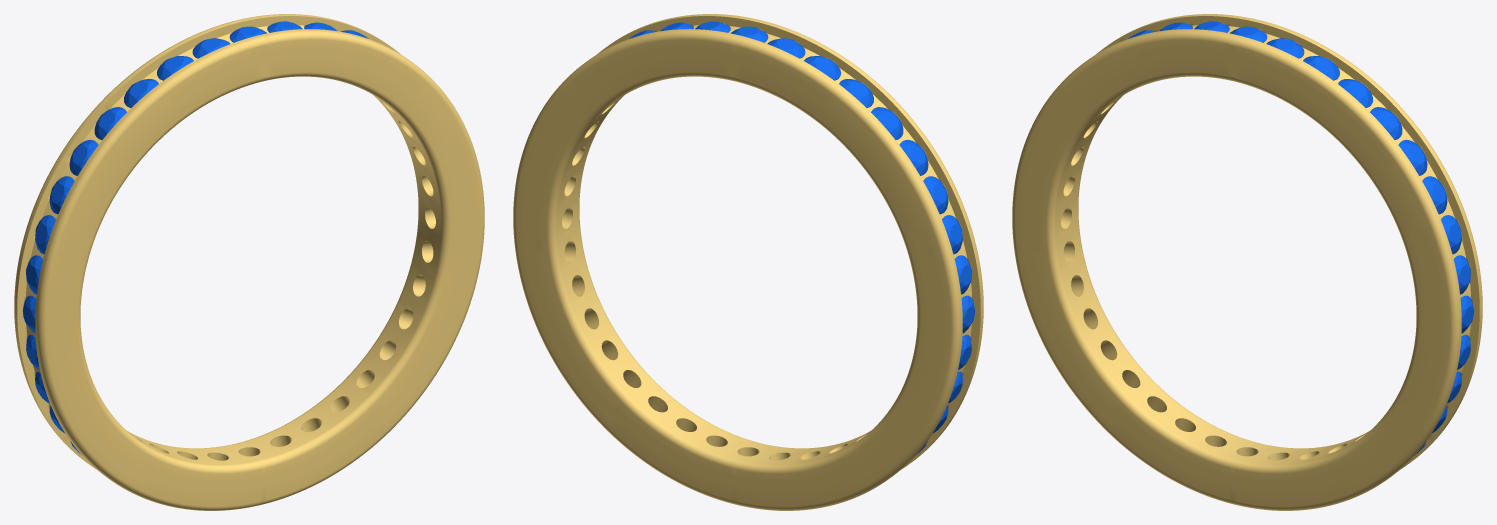
Rendered from AmyYGeternity_blender.glb.
3 renders of one model, left to right at view 1: azimuth 30°, elevation 25°; view 2: azimuth 150°, elevation 25°; view 3: azimuth 330°, elevation 25°, orthographic.
Parts seen in each view (by area): view 1: Amy YG for 3d model, Amy sapph for 3d model.004, Amy sapph for 3d model.003, Amy sapph for 3d model.005, Amy sapph for 3d model.002; view 2: Amy YG for 3d model, Amy sapph for 3d model.004, Amy sapph for 3d model.003, Amy sapph for 3d model.005, Amy sapph for 3d model.002; view 3: Amy YG for 3d model, Amy sapph for 3d model.030, Amy sapph for 3d model.031, Amy sapph for 3d model.029, Amy sapph for 3d model.032.
Part boxes in pixels (<box>): Amy YG for 3d model: <box>14,14,484,510</box>; Amy sapph for 3d model.004: <box>69,139,98,175</box>; Amy sapph for 3d model.003: <box>94,107,126,139</box>; Amy sapph for 3d model.005: <box>49,176,74,214</box>; Amy sapph for 3d model.002: <box>124,79,158,107</box>; Amy YG for 3d model: <box>513,14,983,510</box>; Amy sapph for 3d model.004: <box>899,139,928,175</box>; Amy sapph for 3d model.003: <box>871,107,903,139</box>; Amy sapph for 3d model.005: <box>923,176,948,214</box>; Amy sapph for 3d model.002: <box>839,79,873,107</box>; Amy YG for 3d model: <box>1012,14,1482,510</box>; Amy sapph for 3d model.030: <box>1398,139,1427,175</box>; Amy sapph for 3d model.031: <box>1370,107,1402,139</box>; Amy sapph for 3d model.029: <box>1422,176,1447,214</box>; Amy sapph for 3d model.032: <box>1338,79,1372,107</box>.
Size of the model in its own units: 22.17 by 22.17 by 2.5.
